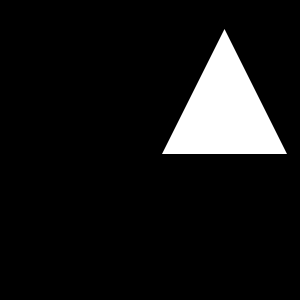triangle: (162, 29, 287, 154)
